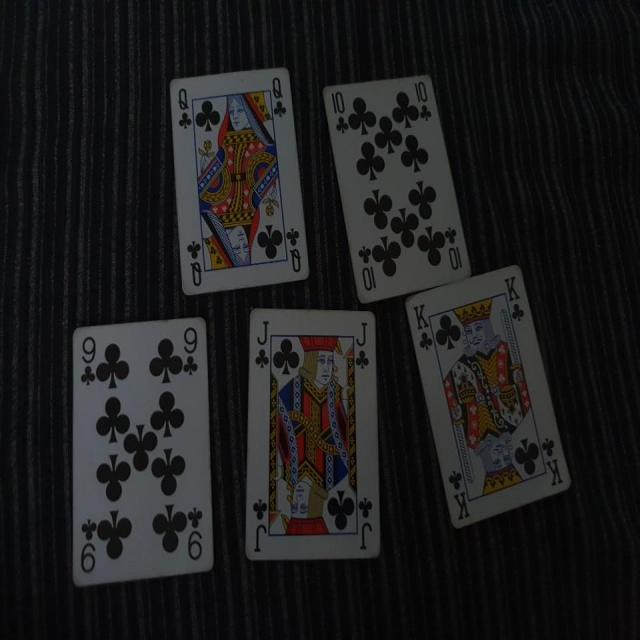10 Trefoils: (320, 72, 472, 303)
9 Trefoils: (71, 314, 214, 586)
J Trefoils: (242, 307, 385, 564)
K Trefoils: (406, 264, 572, 532)
Q Trefoils: (170, 66, 312, 298)
